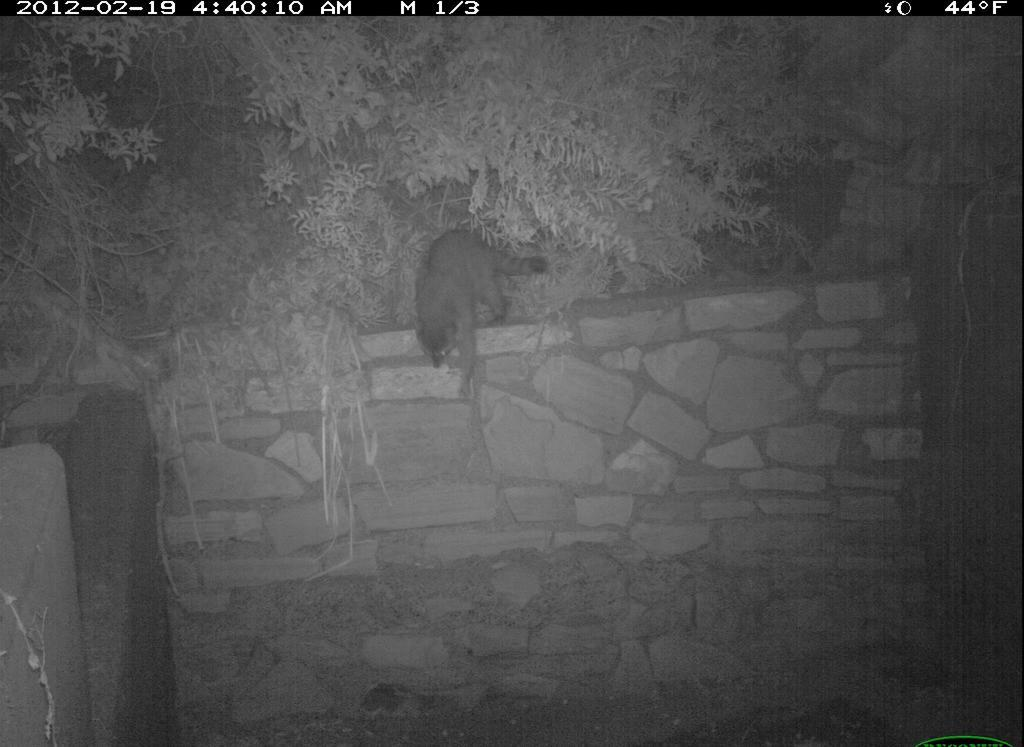raccoon: (408, 218, 559, 392)
